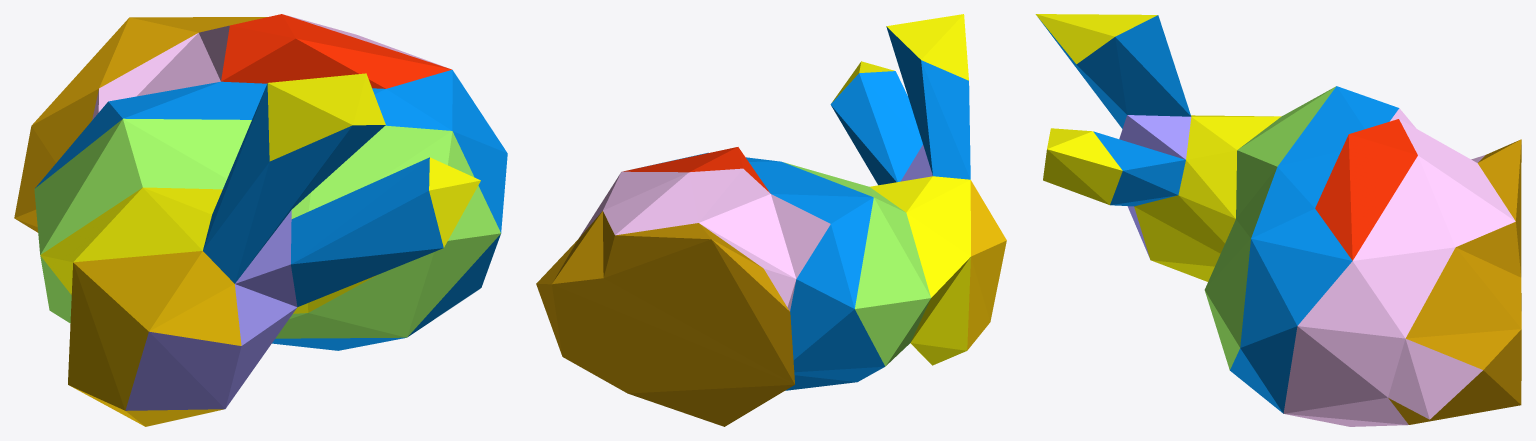
File: bunny146.obj
The picture shows the model from 3 angles, left to right: view 1: azimuth 30°, elevation 25°; view 2: azimuth 150°, elevation 25°; view 3: azimuth 270°, elevation 25°; orthographic projection. The views are drawn at different scales.
Visible parts, largest first — view 1: STL_color_000_153_256, STL_color_163_254_102, STL_color_256_256_001, STL_color_256_204_000, STL_color_163_153_256, STL_color_256_051_000, STL_color_204_153_000, STL_color_254_204_256; view 2: STL_color_204_153_000, STL_color_000_153_256, STL_color_254_204_256, STL_color_256_256_001, STL_color_163_254_102, STL_color_256_204_000, STL_color_256_051_000, STL_color_163_153_256; view 3: STL_color_254_204_256, STL_color_000_153_256, STL_color_256_256_001, STL_color_204_153_000, STL_color_163_254_102, STL_color_256_051_000, STL_color_163_153_256.
Part boxes in pixels (box(x1,y1,x2,y2)): STL_color_000_153_256: box(35, 69, 507, 350); STL_color_163_254_102: box(34, 118, 500, 338); STL_color_256_256_001: box(40, 73, 480, 313); STL_color_256_204_000: box(68, 251, 241, 426); STL_color_163_153_256: box(125, 210, 297, 410); STL_color_256_051_000: box(221, 14, 451, 88); STL_color_204_153_000: box(14, 17, 267, 232); STL_color_254_204_256: box(92, 14, 446, 120); STL_color_204_153_000: box(536, 211, 794, 426); STL_color_000_153_256: box(642, 26, 970, 390); STL_color_254_204_256: box(578, 168, 830, 310); STL_color_256_256_001: box(832, 14, 970, 365); STL_color_163_254_102: box(783, 162, 930, 366); STL_color_256_204_000: box(967, 180, 1006, 350); STL_color_256_051_000: box(623, 147, 770, 193); STL_color_163_153_256: box(900, 145, 932, 181); STL_color_254_204_256: box(1283, 108, 1515, 426); STL_color_000_153_256: box(1039, 15, 1399, 413); STL_color_256_256_001: box(1035, 14, 1281, 281); STL_color_204_153_000: box(1388, 139, 1521, 424); STL_color_163_254_102: box(1204, 86, 1336, 370); STL_color_256_051_000: box(1315, 119, 1417, 260); STL_color_163_153_256: box(1119, 115, 1191, 258).
Bounding box in the file's own units: 105 × 86.08 × 108.
